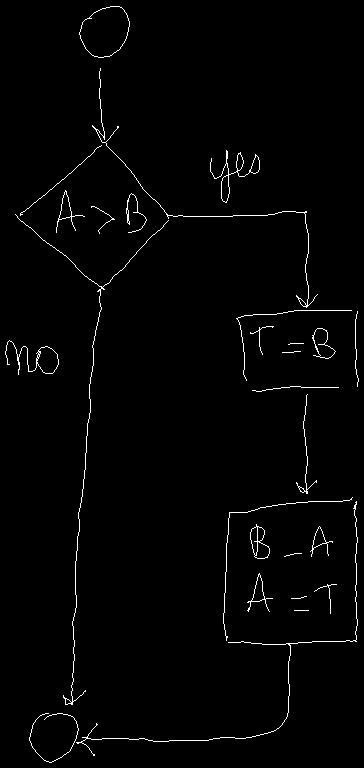arrow: (76, 644, 290, 755), (63, 289, 101, 704), (167, 211, 317, 307), (296, 394, 316, 493), (92, 68, 118, 142)
connection: (79, 6, 129, 57), (29, 713, 78, 762)
decision: (15, 143, 168, 291)
process: (223, 497, 357, 644), (236, 310, 358, 391)
text: (247, 524, 336, 613), (56, 190, 146, 233), (250, 326, 335, 358), (210, 150, 259, 202), (5, 340, 58, 374)
